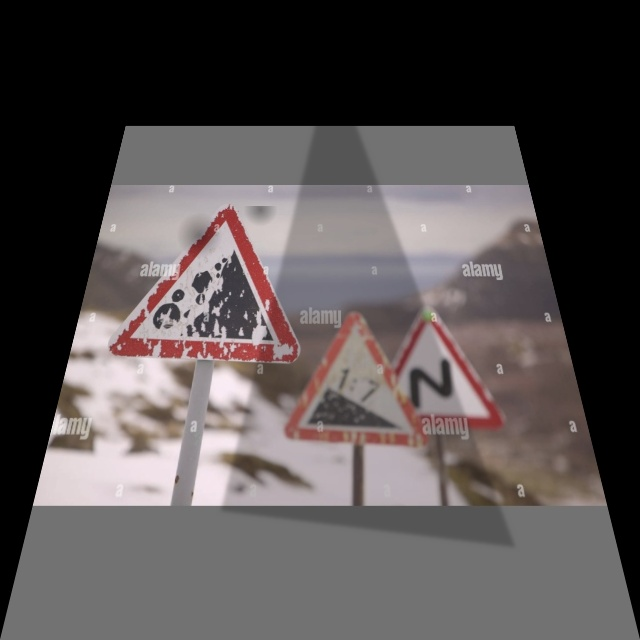Falling_Rocks: (117, 206, 294, 360)
